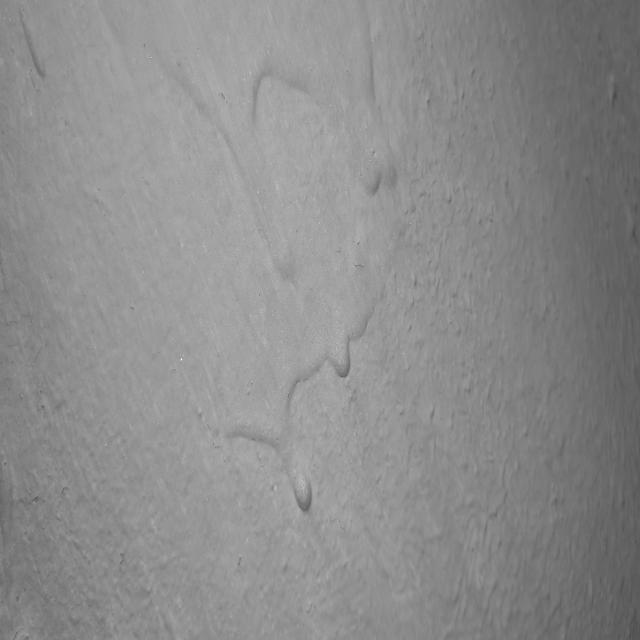paint drips: (165, 0, 408, 531), (8, 0, 56, 95)
